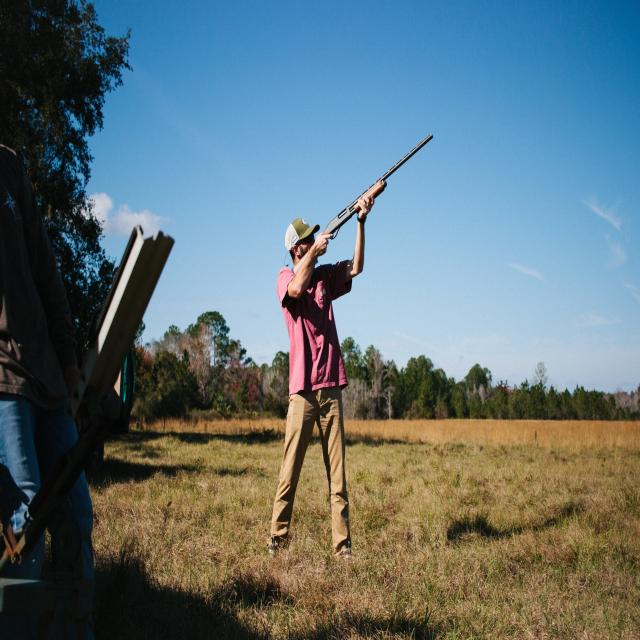ShotGun: (286, 130, 437, 284)
